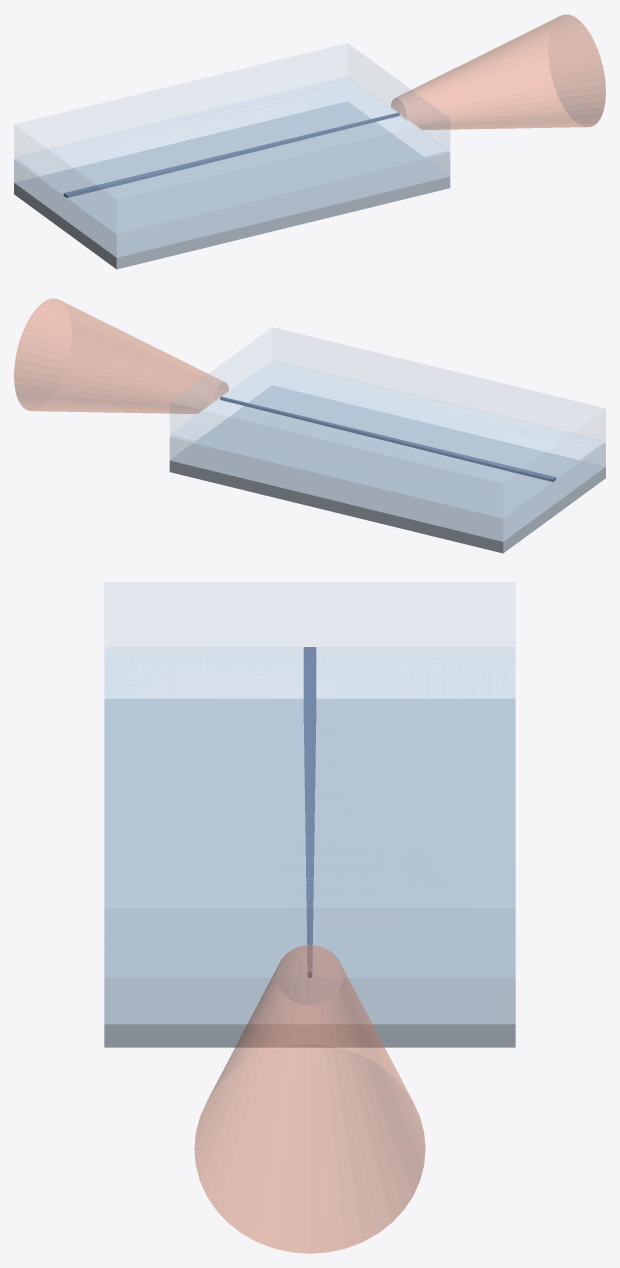
The model's file is stack-edge.glb.
The picture shows the model from 3 angles, top to bottom: view 1: azimuth 30°, elevation 25°; view 2: azimuth 150°, elevation 25°; view 3: azimuth 270°, elevation 25°; orthographic projection. The views are drawn at different scales.
Visible parts, largest first — view 1: cladd, sisub, box, beam, siwg; view 2: cladd, sisub, box, beam, siwg; view 3: cladd, sisub, box, beam, siwg.
Part boxes in pixels (x1,y1,x2,y2): cladd: (14, 43, 449, 233); sisub: (14, 101, 450, 269); box: (14, 78, 450, 257); beam: (391, 14, 605, 129); siwg: (63, 112, 399, 197); cladd: (170, 327, 605, 517); sisub: (169, 385, 605, 553); box: (169, 363, 605, 541); beam: (14, 298, 228, 413); siwg: (220, 396, 556, 481); cladd: (104, 583, 515, 976); sisub: (104, 698, 515, 1047); box: (104, 652, 515, 1023); beam: (194, 945, 425, 1253); siwg: (303, 647, 316, 977).
Bounding box in the file's own units: 46 × 9 × 16.
